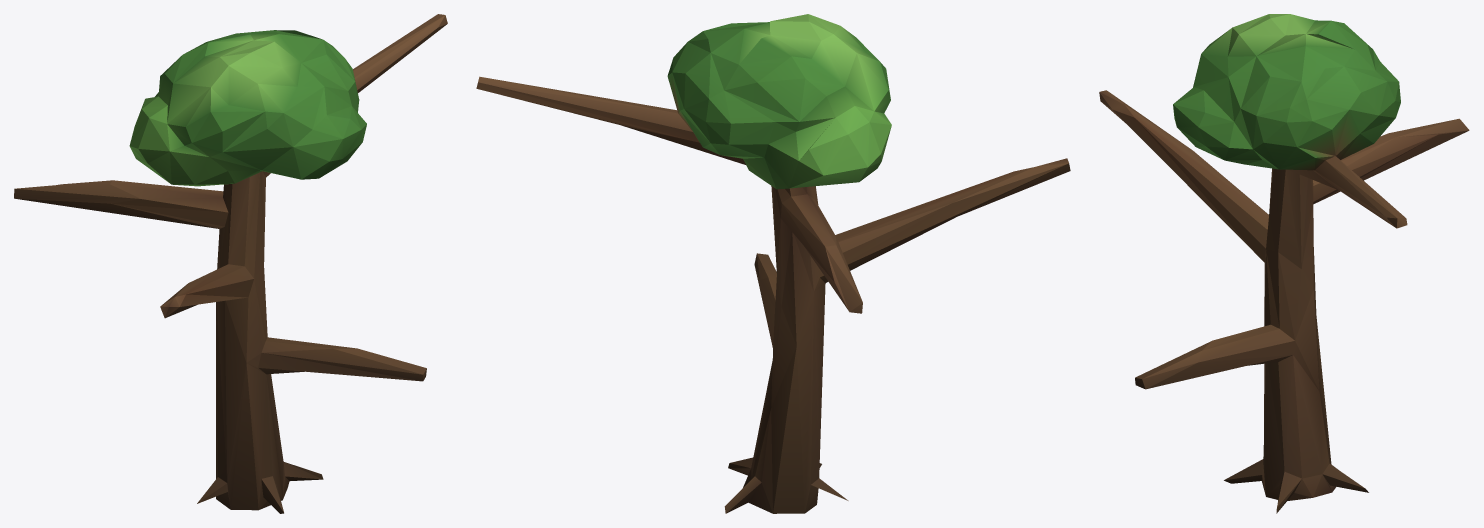
Rendered from broadleaf_sidebranches_far.glb.
3 renders of one model, left to right at view 1: azimuth 30°, elevation 25°; view 2: azimuth 150°, elevation 25°; view 3: azimuth 270°, elevation 25°, orthographic. The views are drawn at different scales.
Visible parts, largest first — view 1: broadleaf_sidebranches_LOD3; view 2: broadleaf_sidebranches_LOD3; view 3: broadleaf_sidebranches_LOD3.
Part boxes in pixels (<box>): broadleaf_sidebranches_LOD3: <box>14,14,447,513</box>; broadleaf_sidebranches_LOD3: <box>476,14,1070,513</box>; broadleaf_sidebranches_LOD3: <box>1099,14,1469,513</box>.
Bounding box in the file's own units: 3.97 × 4.05 × 2.9.
